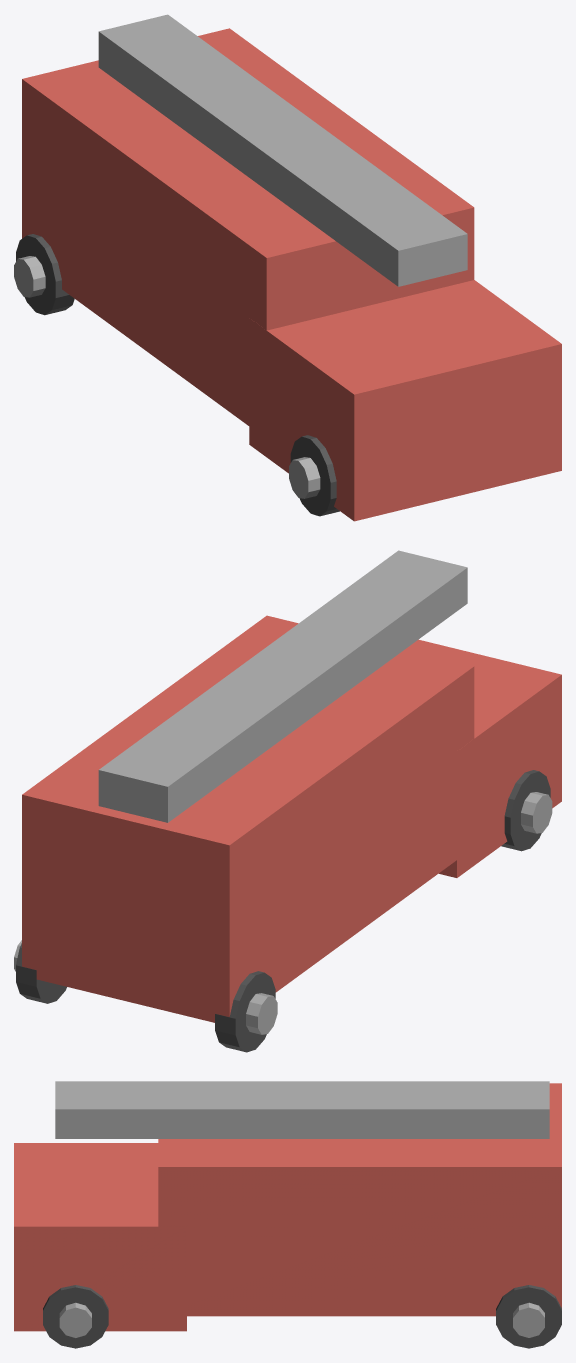
File: fire_engine.glb
3 renders of one model, top to bottom at view 1: azimuth 30°, elevation 25°; view 2: azimuth 150°, elevation 25°; view 3: azimuth 270°, elevation 25°, orthographic. The views are drawn at different scales.
Visible parts, largest first — view 1: cargo, cab, ladder, wheel_rr, wheel_fr, hub_-1_-1, hub_-1_1; view 2: cargo, ladder, cab, wheel_rr, wheel_fr, wheel_rl, hub_-1_1, hub_-1_-1; view 3: cargo, ladder, cab, wheel_rl, wheel_fl, hub_1_1, hub_1_-1.
Boxes of the visible parts, box(x1,y1,x2,y2) form: cargo: box(22, 28, 474, 425); cab: box(249, 280, 561, 521); ladder: box(98, 14, 467, 286); wheel_rr: box(16, 234, 74, 315); wheel_fr: box(290, 435, 339, 516); hub_-1_-1: box(14, 256, 45, 297); hub_-1_1: box(289, 457, 320, 498); cargo: box(22, 615, 474, 1022); ladder: box(98, 550, 467, 822); cab: box(405, 639, 561, 877); wheel_rr: box(215, 971, 275, 1052); wheel_fr: box(501, 770, 550, 851); wheel_rl: box(16, 943, 66, 1003); hub_-1_1: box(521, 792, 552, 833); hub_-1_-1: box(246, 993, 277, 1034); cargo: box(158, 1083, 561, 1316); ladder: box(55, 1081, 549, 1138); cab: box(14, 1143, 186, 1331); wheel_rl: box(496, 1285, 561, 1348); wheel_fl: box(43, 1285, 108, 1348); hub_1_1: box(59, 1302, 91, 1337); hub_1_-1: box(513, 1302, 544, 1337).
Size of the model in its own units: 2.82 by 2.8 by 6.65.
